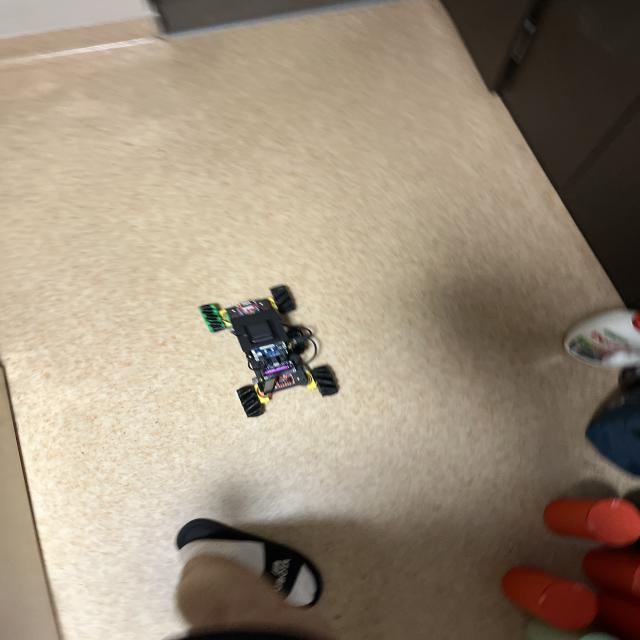robot: (199, 285, 338, 417)
